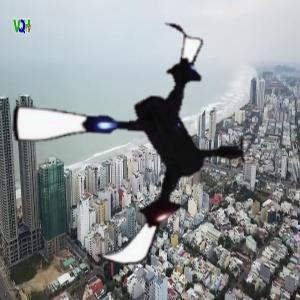drone: (5, 16, 262, 273)
